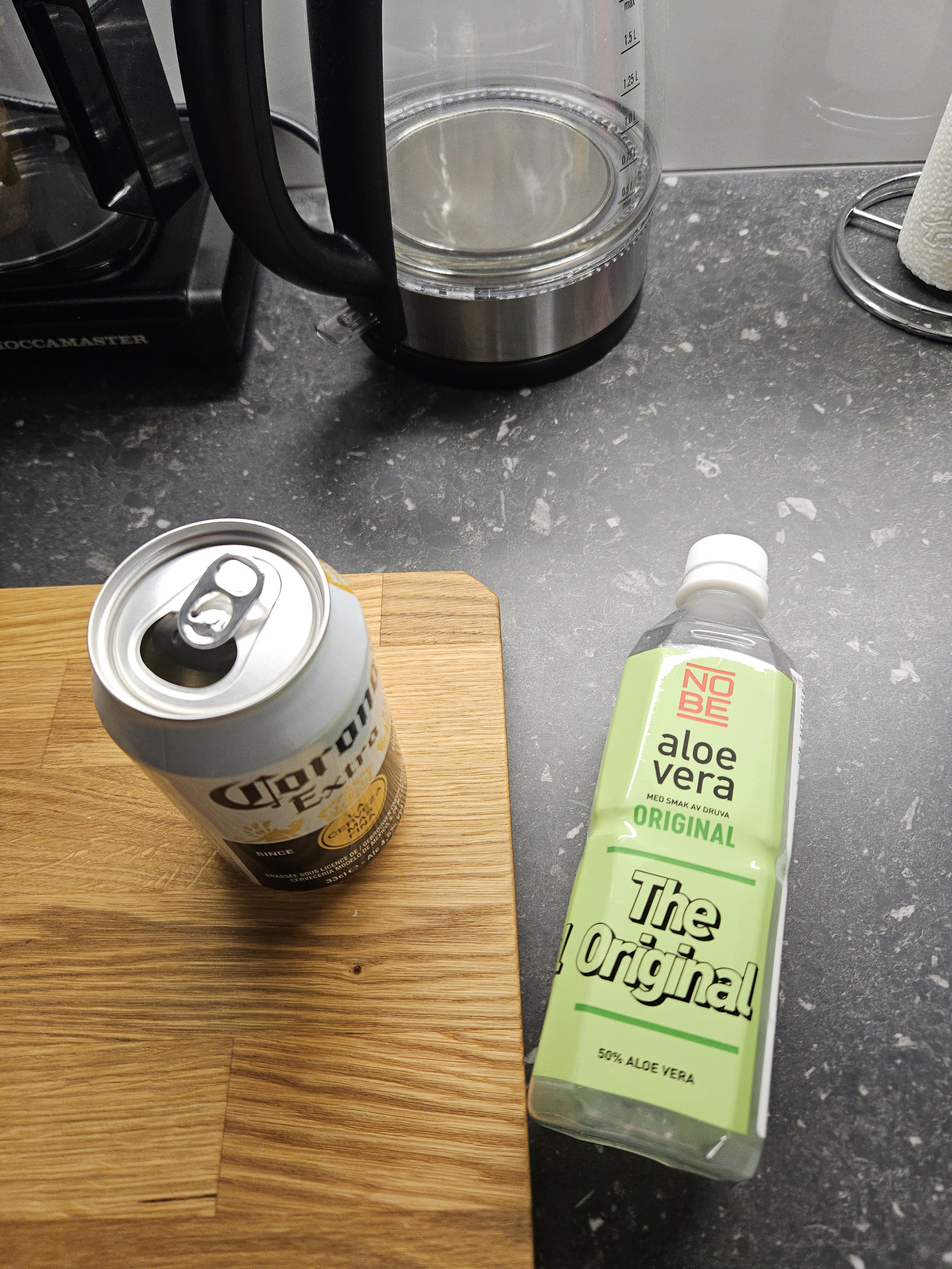Pantburk: (70, 514, 417, 897)
